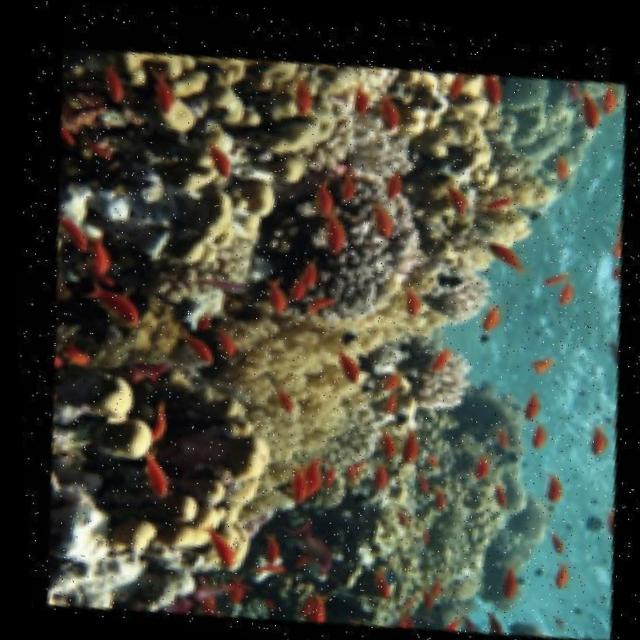Healthy Coral: (12, 291, 298, 588), (11, 43, 284, 353), (227, 69, 468, 342), (398, 73, 622, 334), (198, 255, 425, 485)
